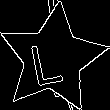L_N: (33, 31, 73, 86)
